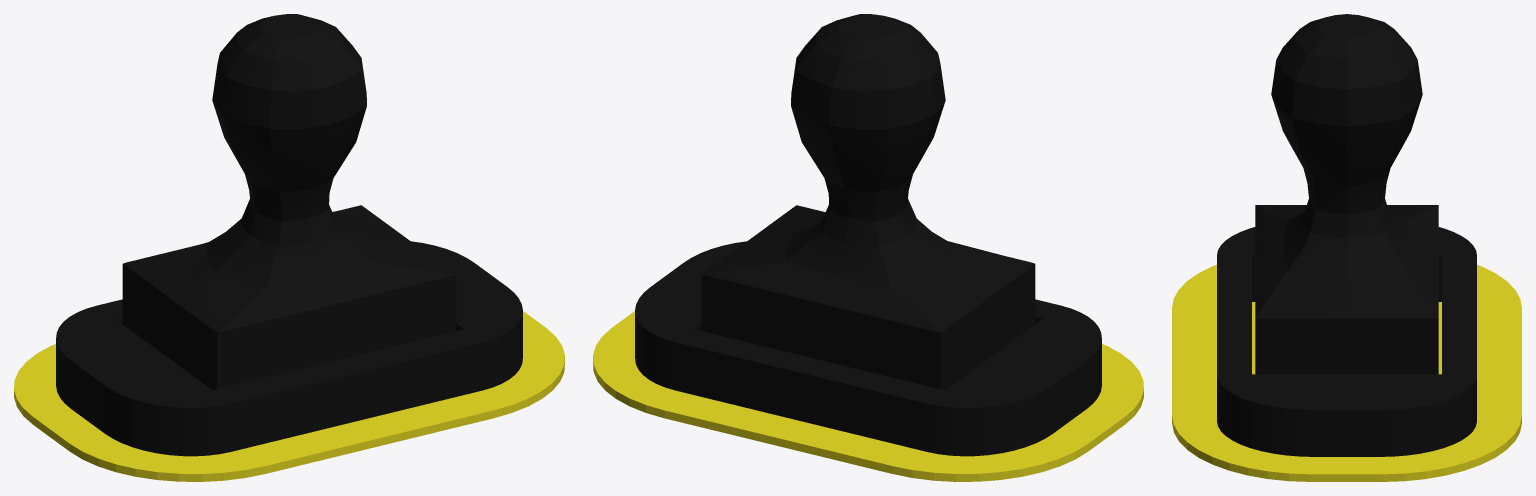
The model's file is 0508stamp_with__light.fbx.
3 views of the same model, side by side, from view 1: azimuth 30°, elevation 25°; view 2: azimuth 150°, elevation 25°; view 3: azimuth 270°, elevation 25° (orthographic). The views are drawn at different scales.
Visible parts, largest first — view 1: Cube.004, Cube.005, Cube; view 2: Cube.004, Cube.005, Cube; view 3: Cube.004, Cube.005, Cube.
Part boxes in pixels (x1=…): Cube.004: x1=122, y1=14, x2=456, y2=390; Cube.005: x1=56, y1=241, x2=522, y2=456; Cube: x1=14, y1=311, x2=564, y2=481; Cube.004: x1=701, y1=14, x2=1035, y2=390; Cube.005: x1=635, y1=241, x2=1101, y2=456; Cube: x1=593, y1=311, x2=1143, y2=481; Cube.004: x1=1255, y1=14, x2=1438, y2=374; Cube.005: x1=1217, y1=227, x2=1476, y2=456; Cube: x1=1172, y1=264, x2=1521, y2=481.
Size of the model in its own units: 9.61 by 6.87 by 6.3.
